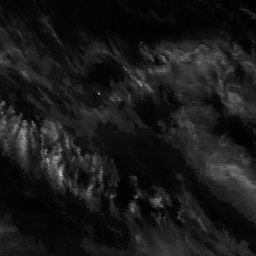Target: (96, 90, 102, 97)
